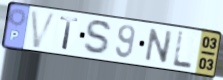9: (113, 24, 137, 60)
L: (171, 30, 194, 71)
N: (142, 27, 175, 65)
S: (82, 18, 114, 57)
T: (59, 15, 81, 52)
V: (29, 8, 59, 50)
